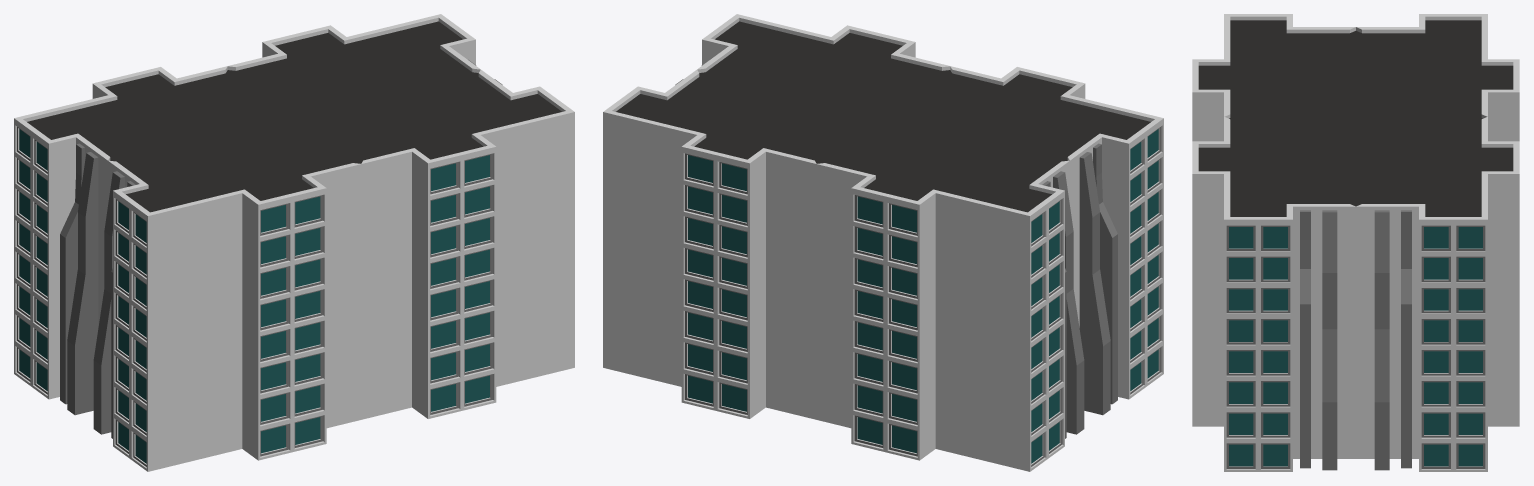
The model's file is yesyres.fbx.
3 views of the same model, side by side, from view 1: azimuth 30°, elevation 25°; view 2: azimuth 150°, elevation 25°; view 3: azimuth 270°, elevation 25° (orthographic).
Visible parts, largest first — view 1: building 2; view 2: building 2; view 3: building 2.
Boxes of the visible parts, box(x1,y1,x2,y2) form: building 2: box(14, 14, 574, 471); building 2: box(603, 14, 1163, 471); building 2: box(1192, 14, 1519, 471).
Bounding box in the file's own units: 1042 × 596 × 701.
